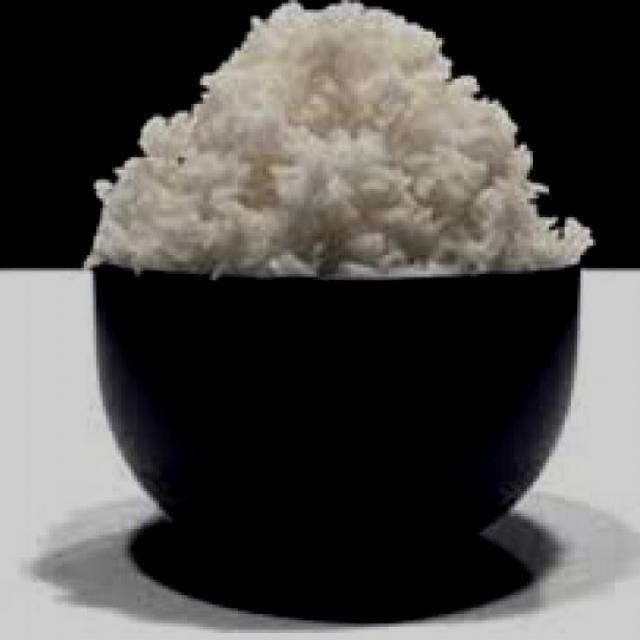rice: (84, 0, 589, 280)
